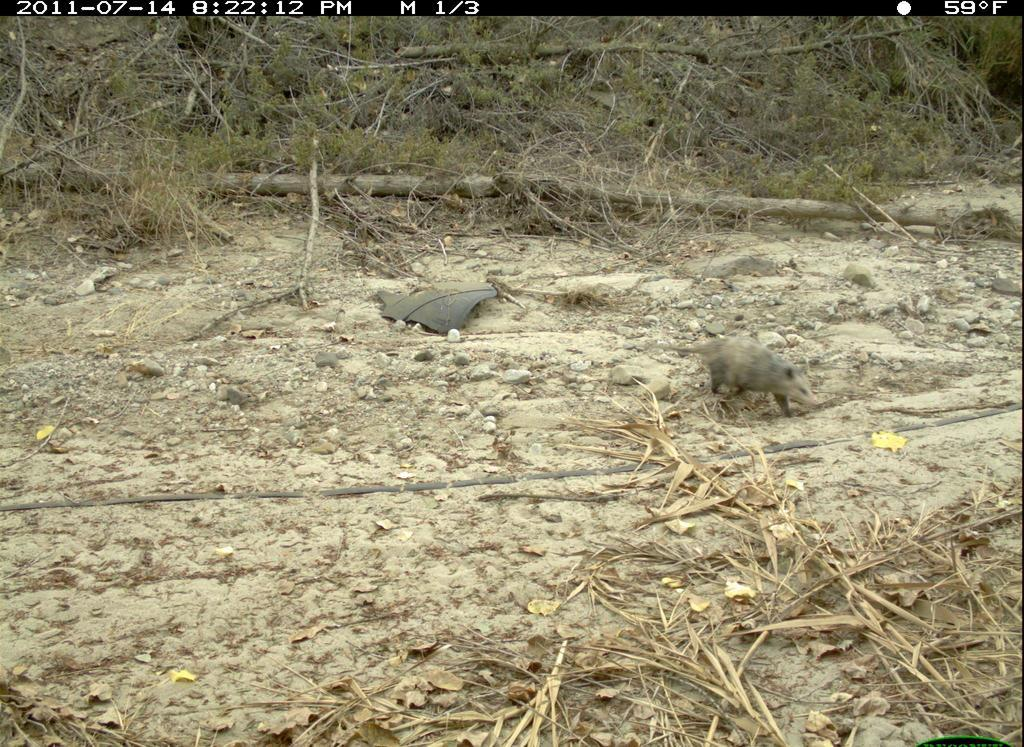opossum: (649, 333, 826, 427)
